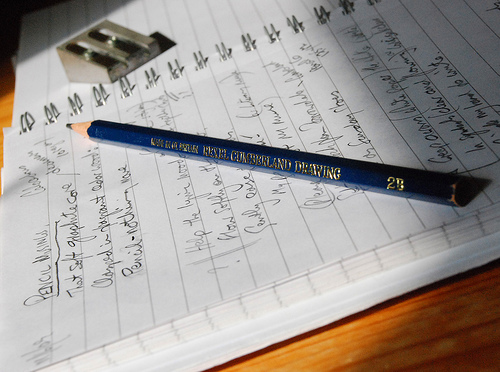pen_tip: (60, 110, 106, 147)
